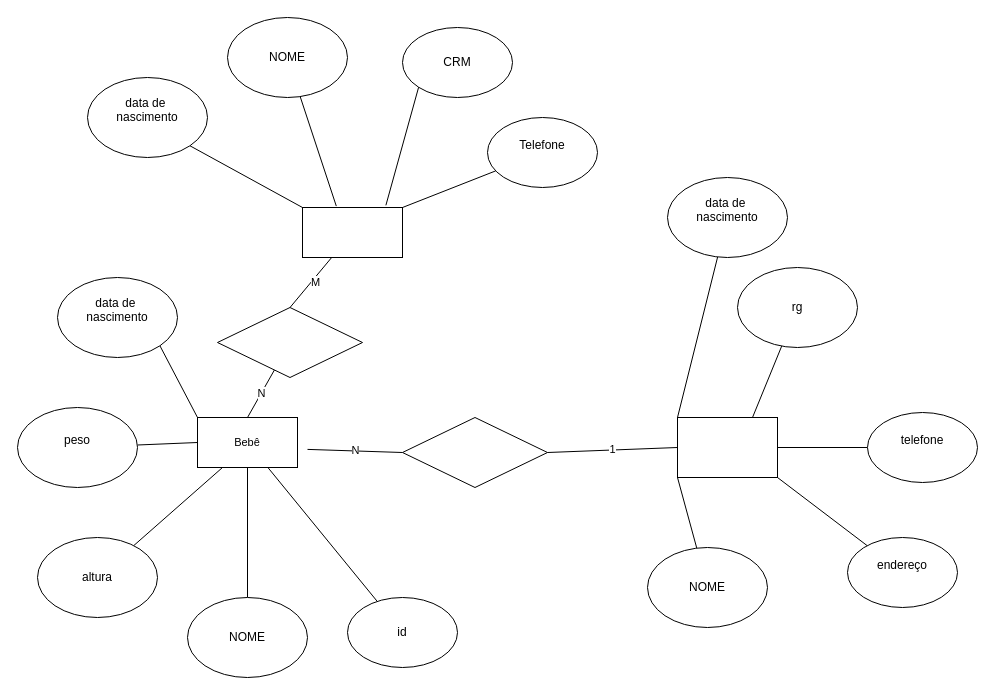
The diagram is 995 pixels wide and 695 high, and some of its shapes have lost their labels. The centre of each missing label's shape, as x and y in pixels:
"Atendimento" belongs at [289,342].
"Mãe" belongs at [727,447].
"Médico" belongs at [352,232].
"Parto" belongs at [475,452].
